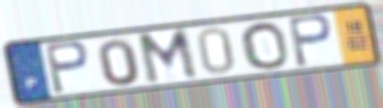0: (95, 36, 143, 88), (195, 25, 238, 77)
M: (134, 26, 202, 87)
O: (238, 21, 292, 71)
P: (285, 12, 335, 70), (42, 39, 92, 97)
